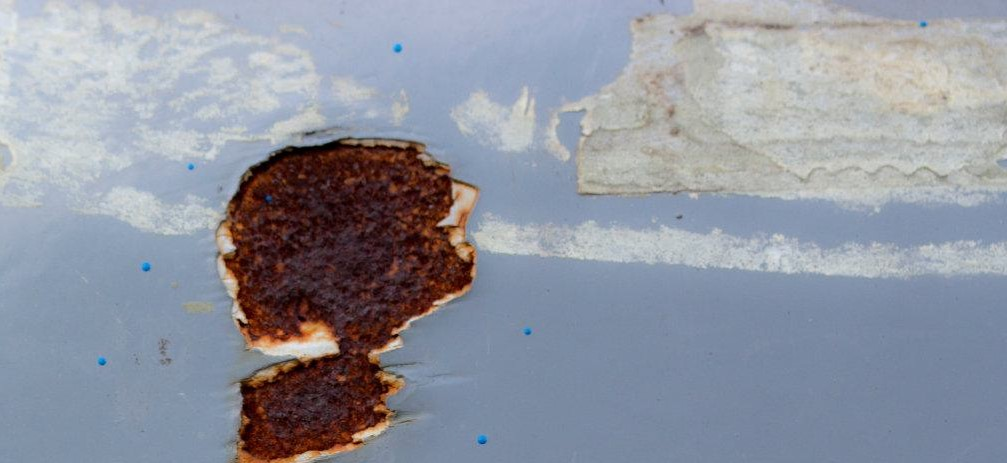Corrosion: (212, 135, 479, 353), (234, 353, 405, 463)
Spalling: (542, 1, 1007, 196)
